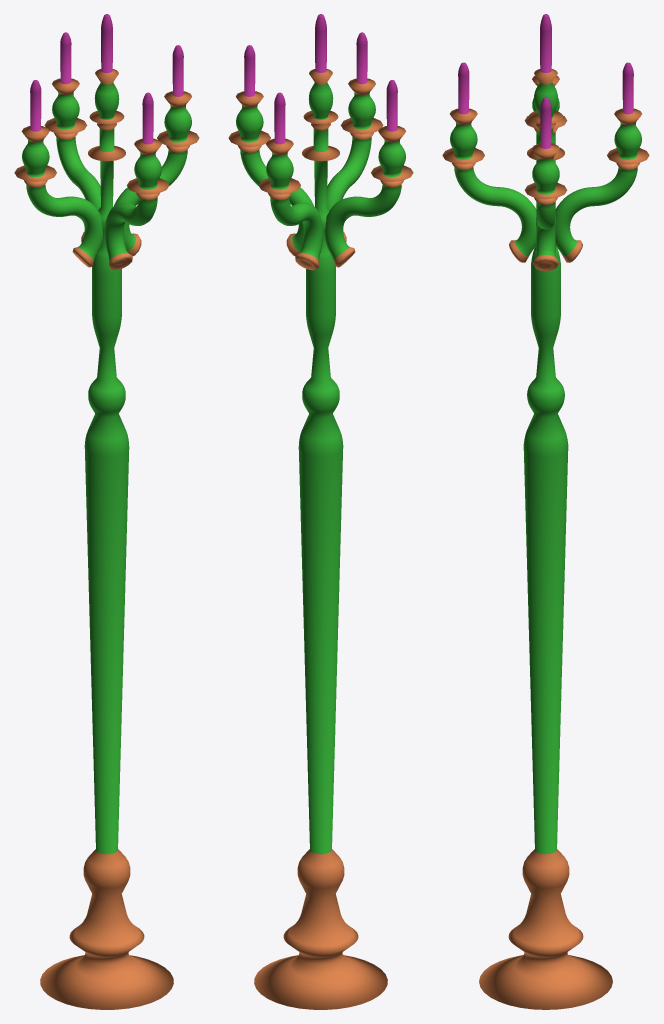
The model's file is Candelabra.fbx.
3 views of the same model, side by side, from view 1: azimuth 30°, elevation 25°; view 2: azimuth 150°, elevation 25°; view 3: azimuth 270°, elevation 25° (orthographic).
Parts seen in each view (by area): view 1: Torus.003; view 2: Torus.003; view 3: Torus.003.
Boxes of the visible parts, x1,y1,x2,y2 form: Torus.003: (14,14,199,1009); Torus.003: (228,14,413,1009); Torus.003: (442,14,649,1009).
Bounding box in the file's own units: 85.99 × 443 × 85.99.
